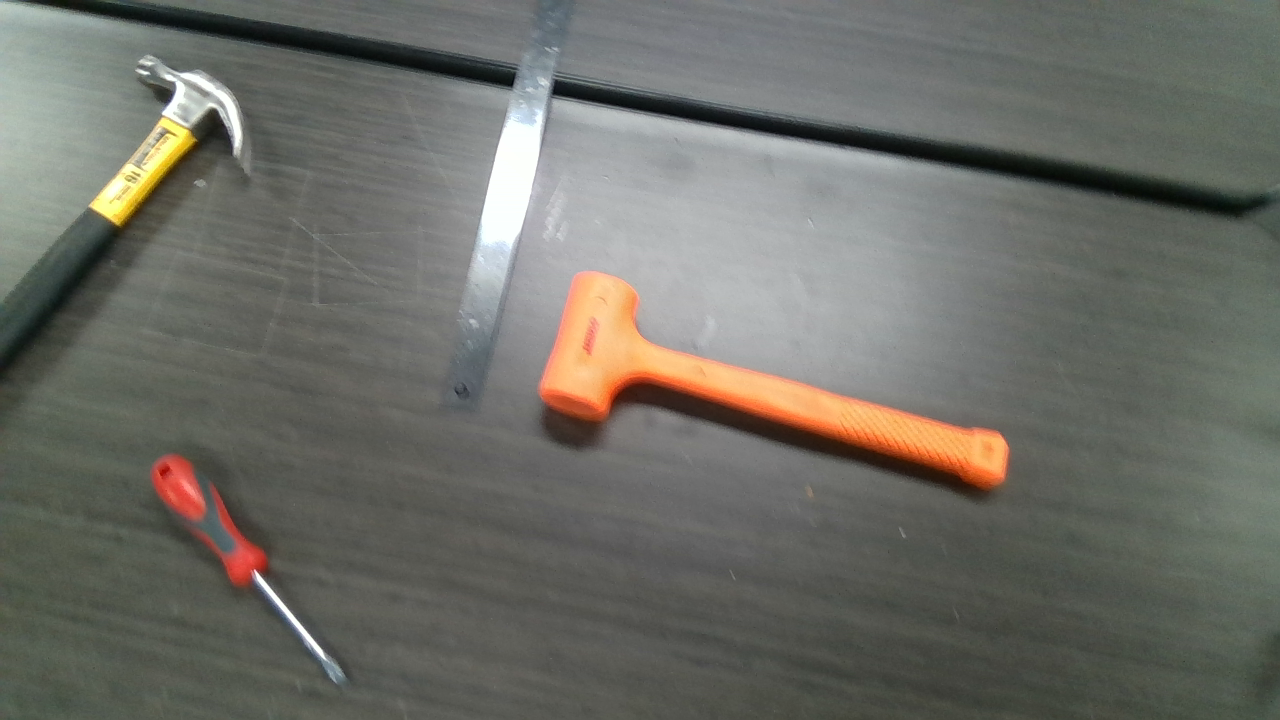Orange Hammer: (546, 270, 1008, 489)
